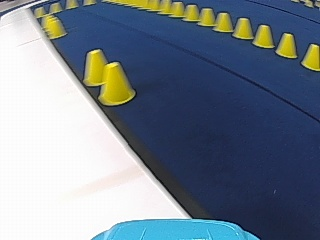cone: (98, 61, 136, 105), (82, 48, 109, 85), (276, 32, 297, 58), (301, 43, 320, 70), (252, 24, 273, 48), (233, 17, 253, 40), (214, 12, 232, 33), (198, 8, 215, 26), (184, 4, 199, 21), (170, 2, 183, 16), (159, 0, 170, 13)
